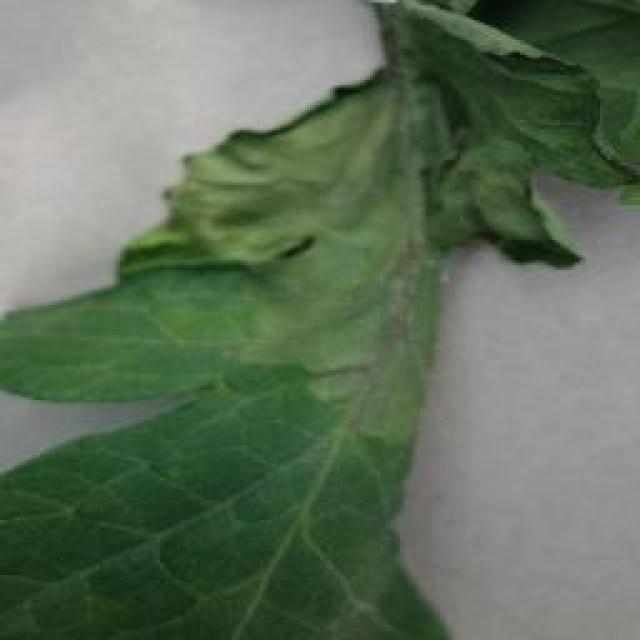Tomato Late Blight: (298, 81, 454, 376)
